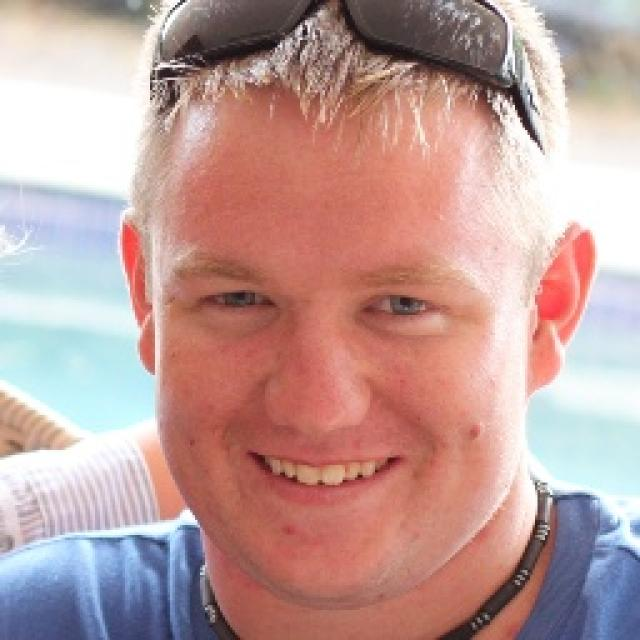earlobe: (522, 328, 565, 394), (132, 314, 158, 375)
eye: (364, 292, 440, 318), (202, 290, 276, 312)
nose: (263, 410, 367, 481)
wholeear: (523, 221, 597, 394), (117, 208, 159, 374)
